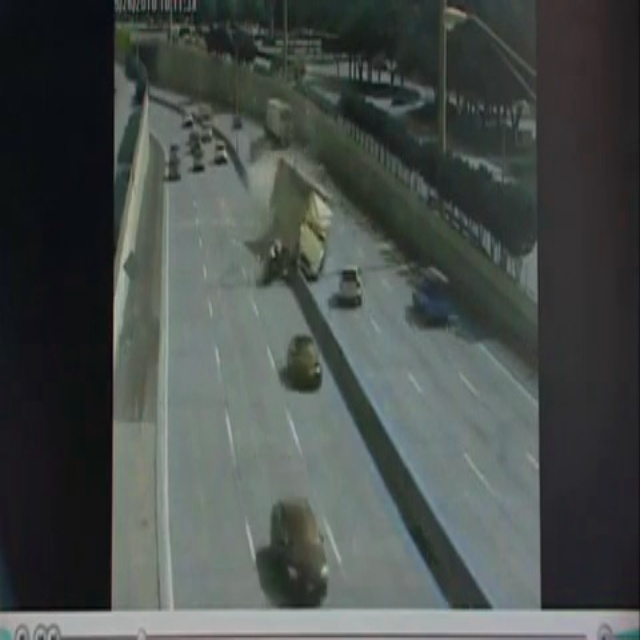acc: (231, 148, 339, 294)
